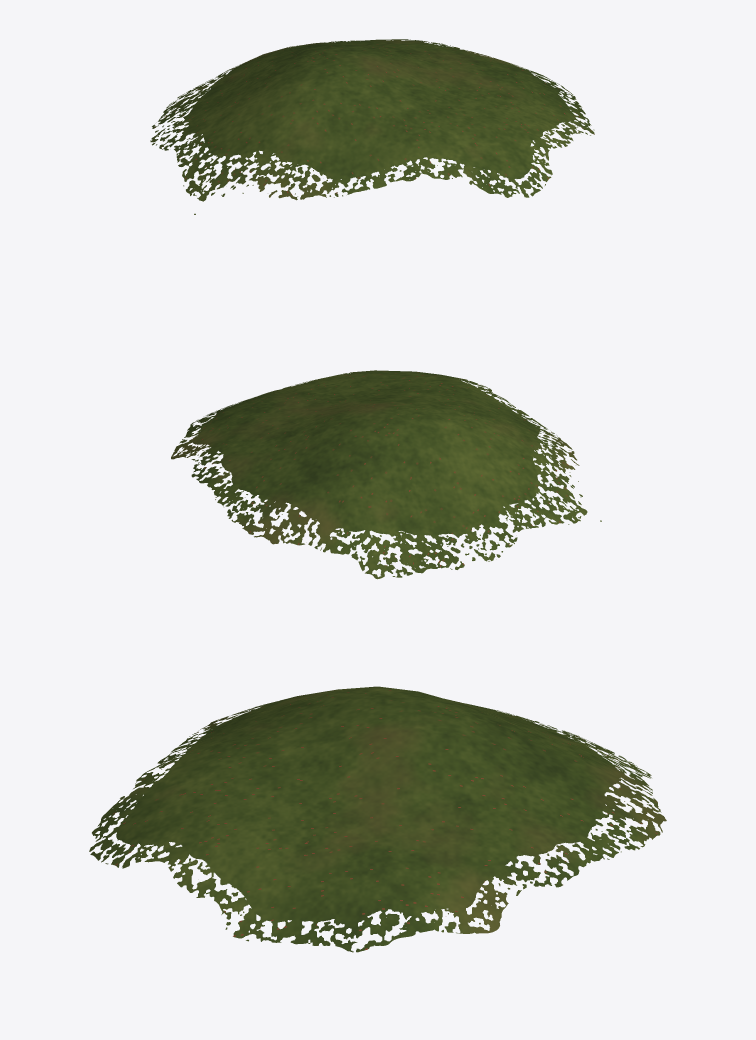
The model's file is mech_3.glb.
3 views of the same model, one above another, from view 1: azimuth 30°, elevation 25°; view 2: azimuth 150°, elevation 25°; view 3: azimuth 270°, elevation 25° (orthographic). The views are drawn at different scales.
Visible parts, largest first — view 1: mech_3; view 2: mech_3; view 3: mech_3.
Part boxes in pixels (x1,y1,x2,y2): mech_3: (150,39,594,214); mech_3: (171,370,601,579); mech_3: (89,686,666,952).
Bounding box in the file's own units: 0.45 × 0.0969 × 0.45.
1 material, 1 textured.
